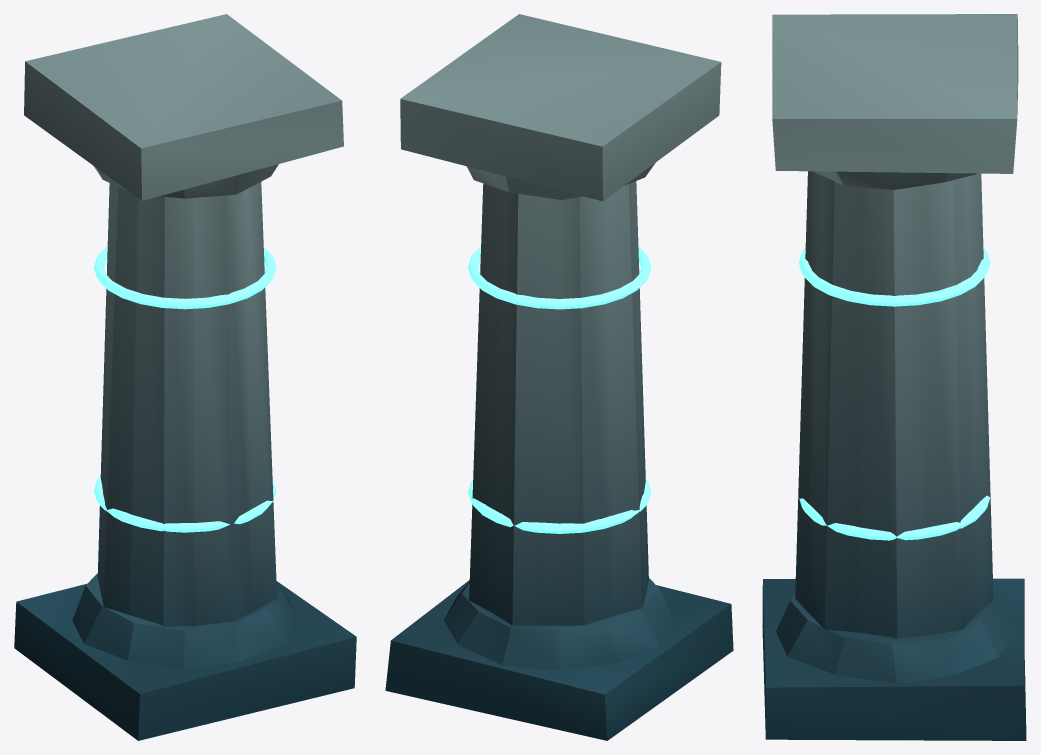
Rendered from ruin_pillar_intact.glb.
The picture shows the model from 3 angles, left to right: view 1: azimuth 30°, elevation 25°; view 2: azimuth 150°, elevation 25°; view 3: azimuth 270°, elevation 25°; orthographic projection. The views are drawn at different scales.
Visible parts, largest first — view 1: ruin_pillar_intact_stone, ruin_pillar_intact_glow; view 2: ruin_pillar_intact_stone, ruin_pillar_intact_glow; view 3: ruin_pillar_intact_stone, ruin_pillar_intact_glow.
Boxes of the visible parts, box(x1,y1,x2,y2) form: ruin_pillar_intact_stone: box(14, 14, 356, 740); ruin_pillar_intact_glow: box(93, 246, 276, 532); ruin_pillar_intact_stone: box(385, 14, 733, 740); ruin_pillar_intact_glow: box(468, 246, 651, 533); ruin_pillar_intact_stone: box(762, 14, 1026, 740); ruin_pillar_intact_glow: box(799, 247, 990, 540).
Size of the model in its own units: 2.2 by 5.62 by 2.17.
